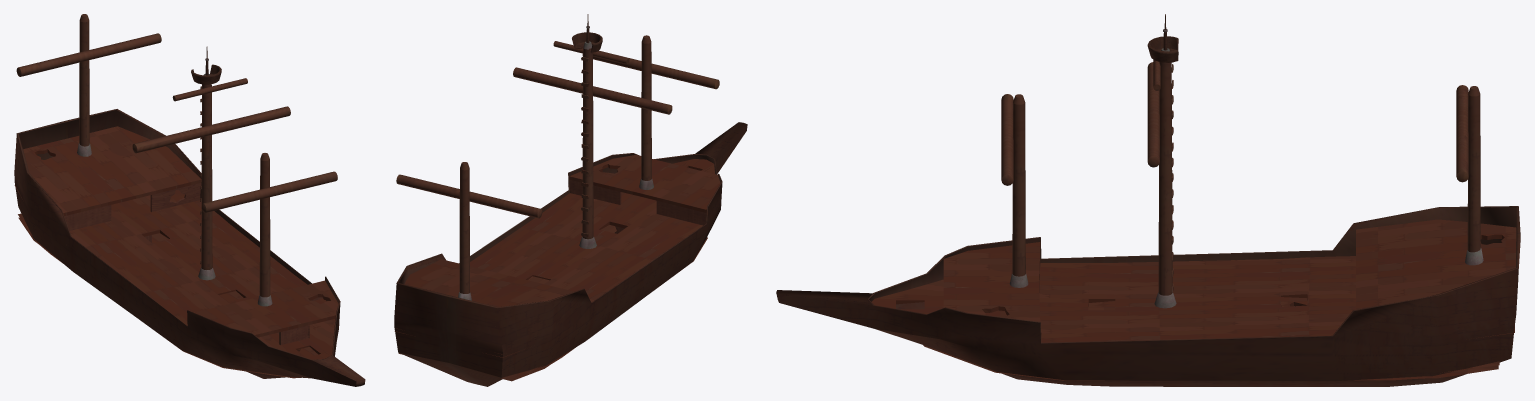
Rendered from NavioArena.fbx.
3 renders of one model, left to right at view 1: azimuth 30°, elevation 25°; view 2: azimuth 150°, elevation 25°; view 3: azimuth 270°, elevation 25°, orthographic. The views are drawn at different scales.
Visible parts, largest first — view 1: Casco, Piso, Piso.002, MastroMeio, Piso.003, MastroFrente, MastroTras, ParedeComBuraco, Piso.001, Parede2, Parede1; view 2: Casco, Piso, MastroMeio, Piso.003, Piso.002, MastroTras, MastroFrente, Parede4, Parede3, Piso.001; view 3: Casco, Piso, Piso.002, Piso.003, MastroMeio, MastroFrente, MastroTras, Piso.001.
Boxes of the visible parts, left/top/right/bottom form: Casco: left=14, top=109, right=365, bottom=386; Piso: left=14, top=185, right=335, bottom=359; Piso.002: left=23, top=126, right=201, bottom=215; MastroMeio: left=132, top=46, right=290, bottom=280; Piso.003: left=194, top=280, right=338, bottom=337; MastroFrente: left=201, top=153, right=337, bottom=306; MastroTras: left=16, top=14, right=161, bottom=156; ParedeComBuraco: left=150, top=183, right=201, bottom=212; Piso.001: left=18, top=213, right=317, bottom=378; Parede2: left=64, top=205, right=111, bottom=230; Parede1: left=279, top=325, right=309, bottom=345; Casco: left=394, top=122, right=747, bottom=386; Piso: left=394, top=159, right=714, bottom=357; MastroMeio: left=513, top=14, right=672, bottom=248; Piso.003: left=569, top=155, right=720, bottom=212; Piso.002: left=404, top=259, right=574, bottom=307; MastroTras: left=396, top=162, right=542, bottom=300; MastroFrente: left=582, top=35, right=719, bottom=189; Parede4: left=656, top=201, right=706, bottom=225; Parede3: left=569, top=179, right=621, bottom=204; Piso.001: left=398, top=225, right=707, bottom=381; Casco: left=776, top=206, right=1520, bottom=386; Piso: left=872, top=256, right=1514, bottom=342; Piso.002: left=1356, top=219, right=1516, bottom=309; Piso.003: left=943, top=242, right=1040, bottom=321; MastroMeio: left=1147, top=14, right=1178, bottom=308; MastroFrente: left=1001, top=94, right=1028, bottom=287; MastroTras: left=1456, top=85, right=1483, bottom=265; Piso.001: left=923, top=297, right=1499, bottom=380.
Bounding box in the file's own units: 4071 × 7144 × 13247.
